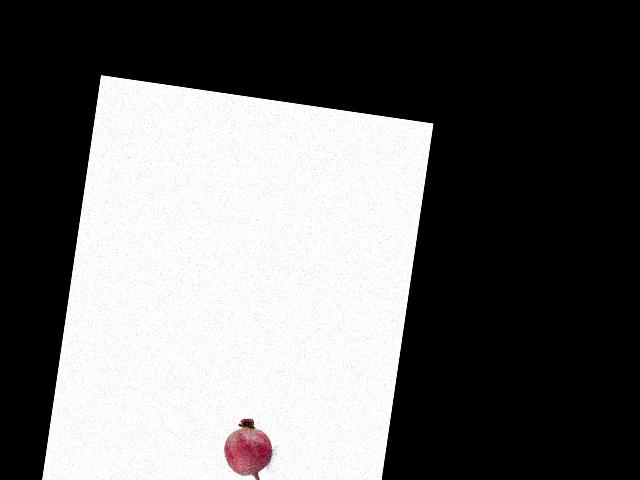beet: (218, 416, 276, 480)
